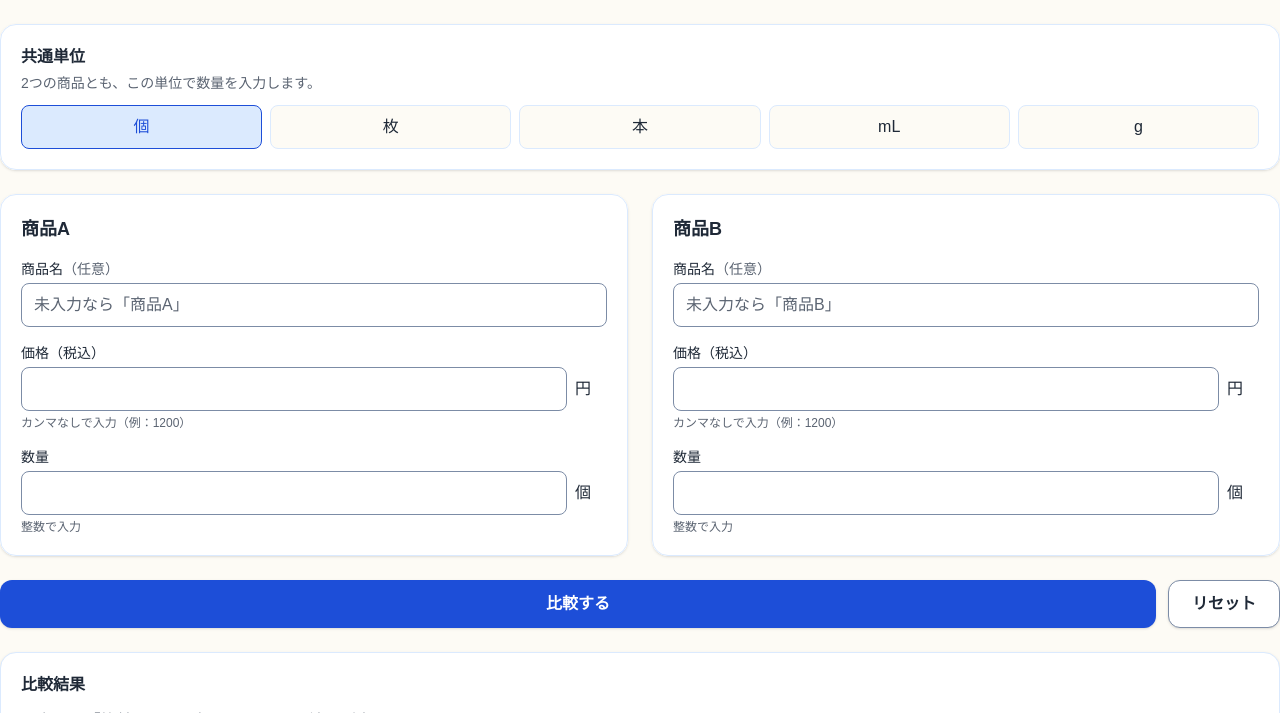
Scenario: UnitPriceComparer：入力エラー › 0・負数・上限超過・許可されない小数を拒否する
In the field labelled "価格（税込）" below "商品A": {"x": 294, "y": 389} 21,367 -> 567,411, type "0"
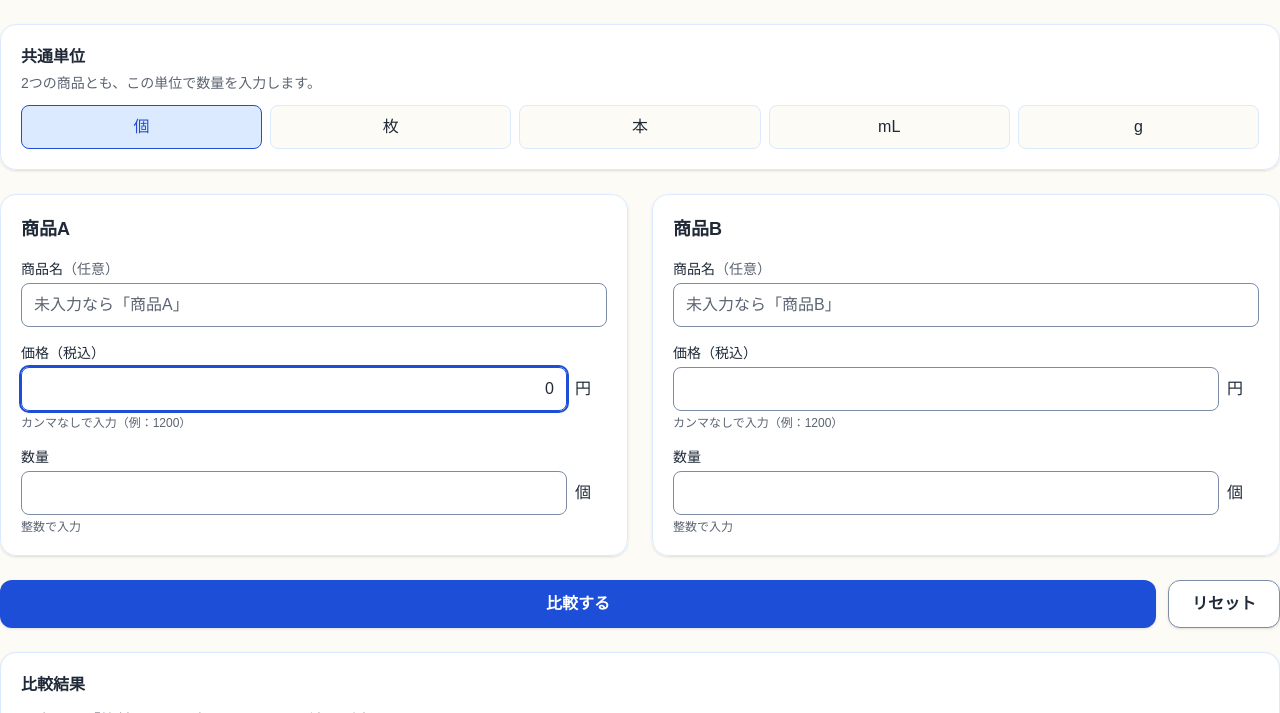
In the field labelled "数量" below "商品A": {"x": 294, "y": 493} 21,471 -> 567,515, type "-3"
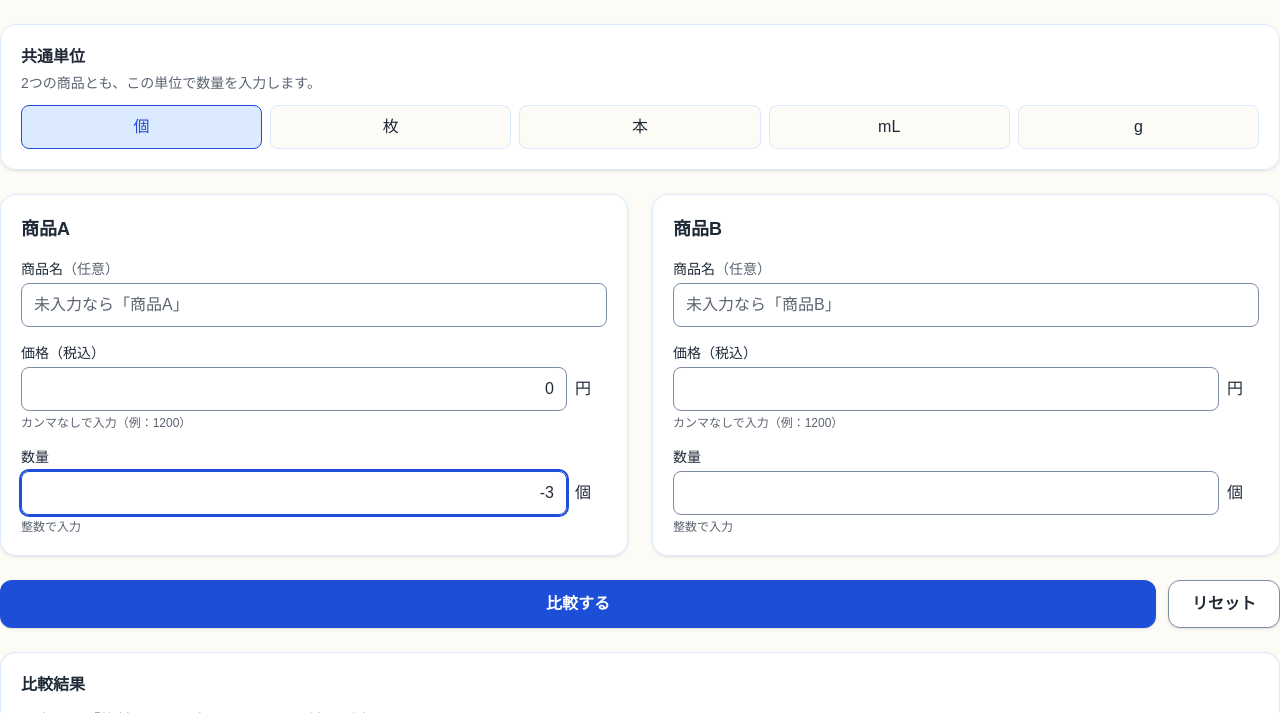
In the field labelled "価格（税込）" below "商品B": {"x": 946, "y": 389} 673,367 -> 1219,411, type "1000001"
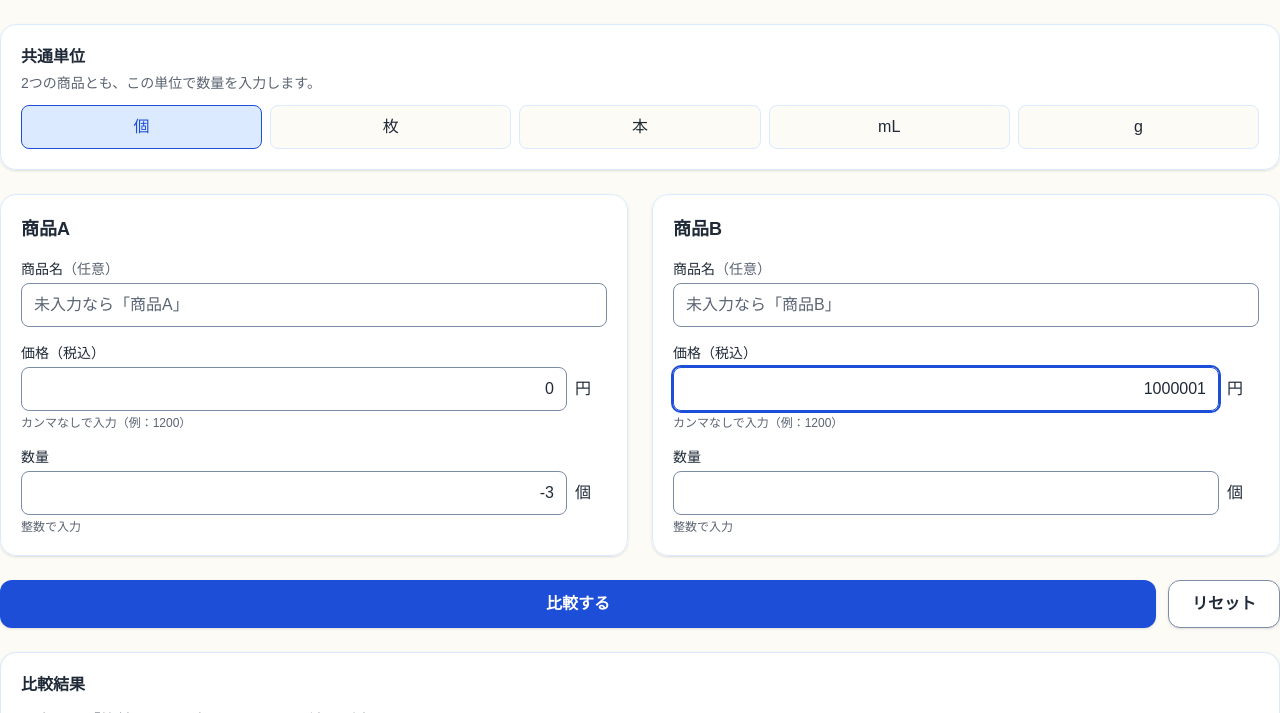
In the field labelled "数量" below "商品B": {"x": 946, "y": 493} 673,471 -> 1219,515, type "1.5"
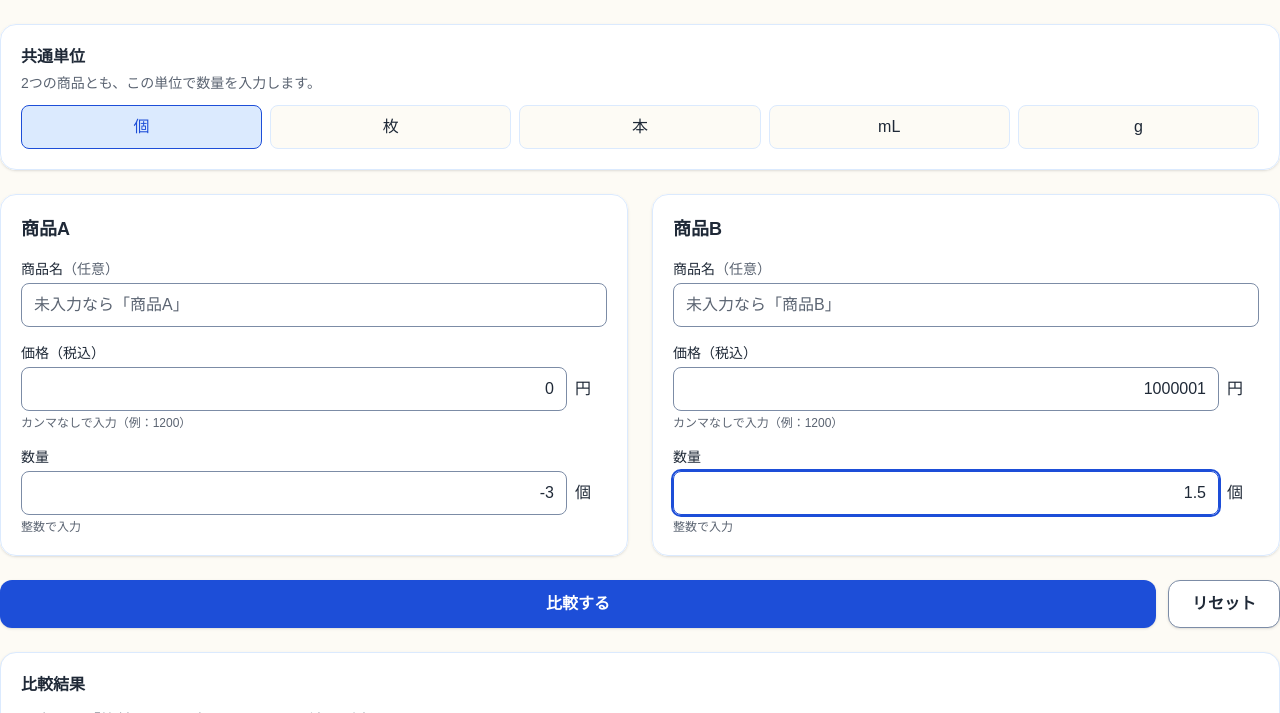
Click the button "比較する": {"x": 578, "y": 604} 0,580 -> 1156,628
(page scrolled)
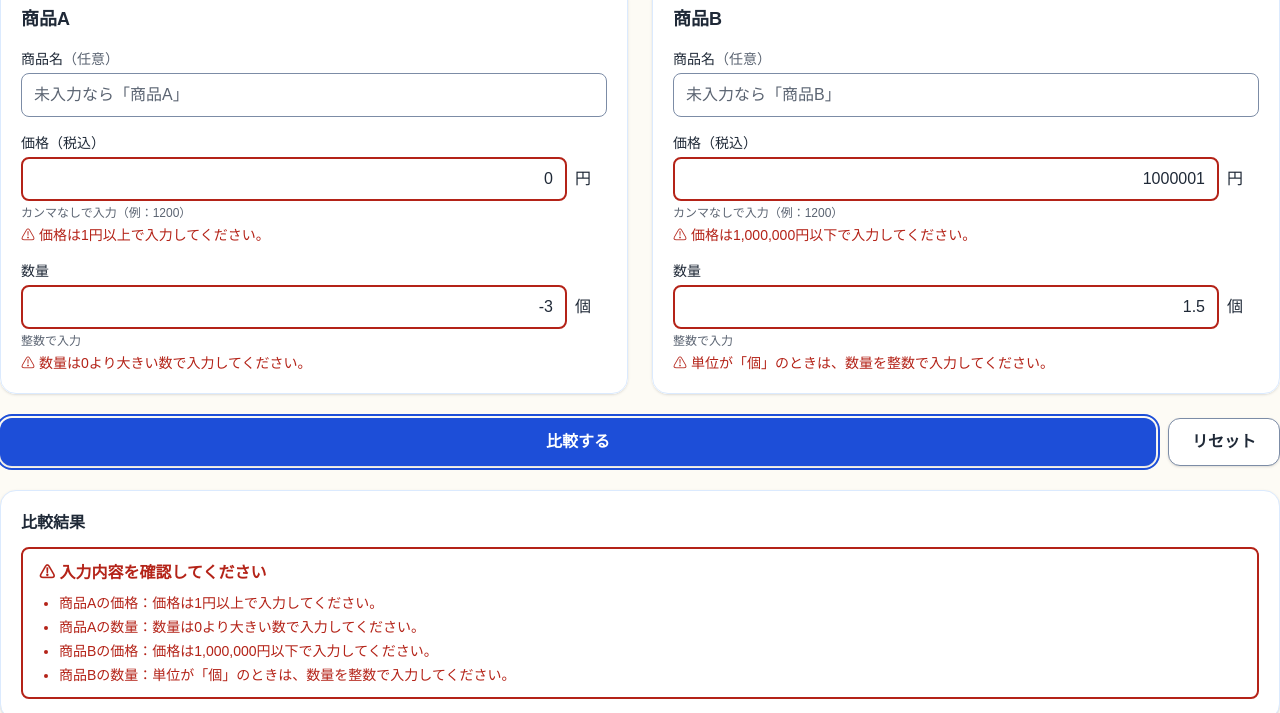
expect the list item "商品Aの価格：価格は1円以上で入力してください。" is shown: met, box 59,595 -> 383,611
expect the list item "商品Aの数量：数量は0より大きい数で入力してください。" is shown: met, box 59,619 -> 425,635
expect the list item "商品Bの価格：価格は1,000,000円以下で入力してください。" is shown: met, box 59,643 -> 438,659
